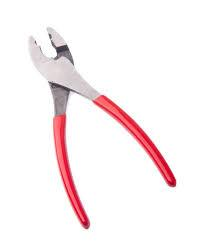pliers: (25, 23, 177, 231)
